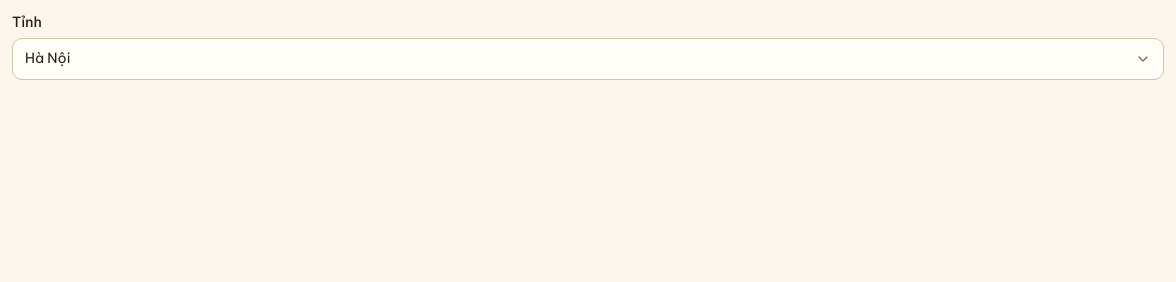
Scenario: Shared UI - Select (listbox tự dựng) › hỗ trợ nhóm tuỳ chọn (optgroup)
The width and height of the screenshot is (1176, 282).
Step 1. Click the dropdown → (48, 58), box [13,48,1163,70]
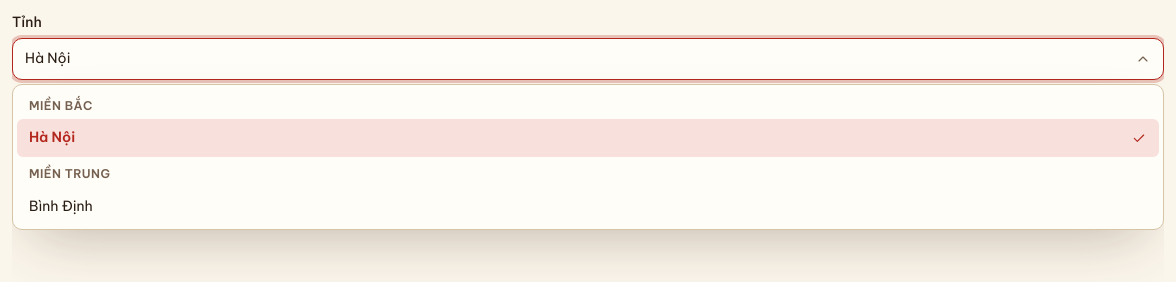
Now the list item "Miền Bắc" is shown, box [17,89,1159,157]
Now the list item "Miền Trung" is shown, box [29,166,110,215]
